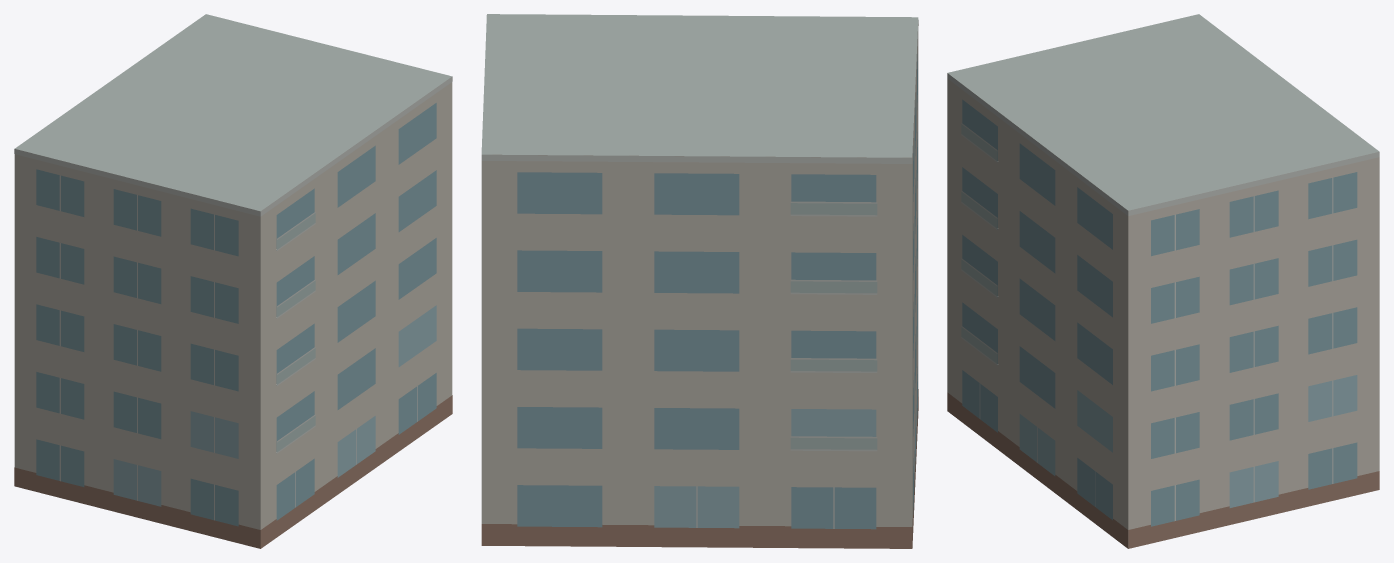
The model's file is survey-upis-32969137.glb.
3 views of the same model, side by side, from view 1: azimuth 30°, elevation 25°; view 2: azimuth 150°, elevation 25°; view 3: azimuth 270°, elevation 25° (orthographic). The views are drawn at different scales.
Parts seen in each view (by area): view 1: survey-upis-32969137.tmp; view 2: survey-upis-32969137.tmp; view 3: survey-upis-32969137.tmp.
Part boxes in pixels (x1,y1,x2,y2): survey-upis-32969137.tmp: (14,14,452,548); survey-upis-32969137.tmp: (481,14,918,548); survey-upis-32969137.tmp: (947,14,1379,548).
Size of the model in its own units: 19.04 by 15.25 by 17.69.
